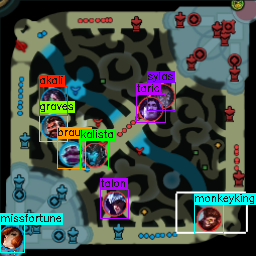akali: (40, 88, 64, 112)
braum: (58, 141, 83, 165)
graves: (40, 114, 65, 139)
kalista: (81, 143, 105, 166)
missfortune: (1, 224, 23, 249)
monkeyking: (195, 205, 221, 231)
sylas: (148, 82, 174, 107)
talon: (101, 191, 126, 215)
taric: (137, 97, 162, 121)
